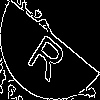R: (25, 25, 74, 83)
